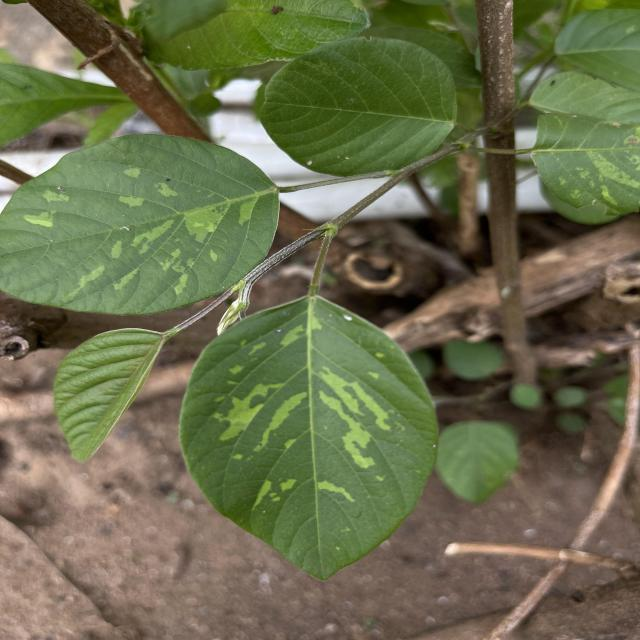Desmodium gangeticum: (175, 291, 442, 584), (0, 129, 284, 319)
